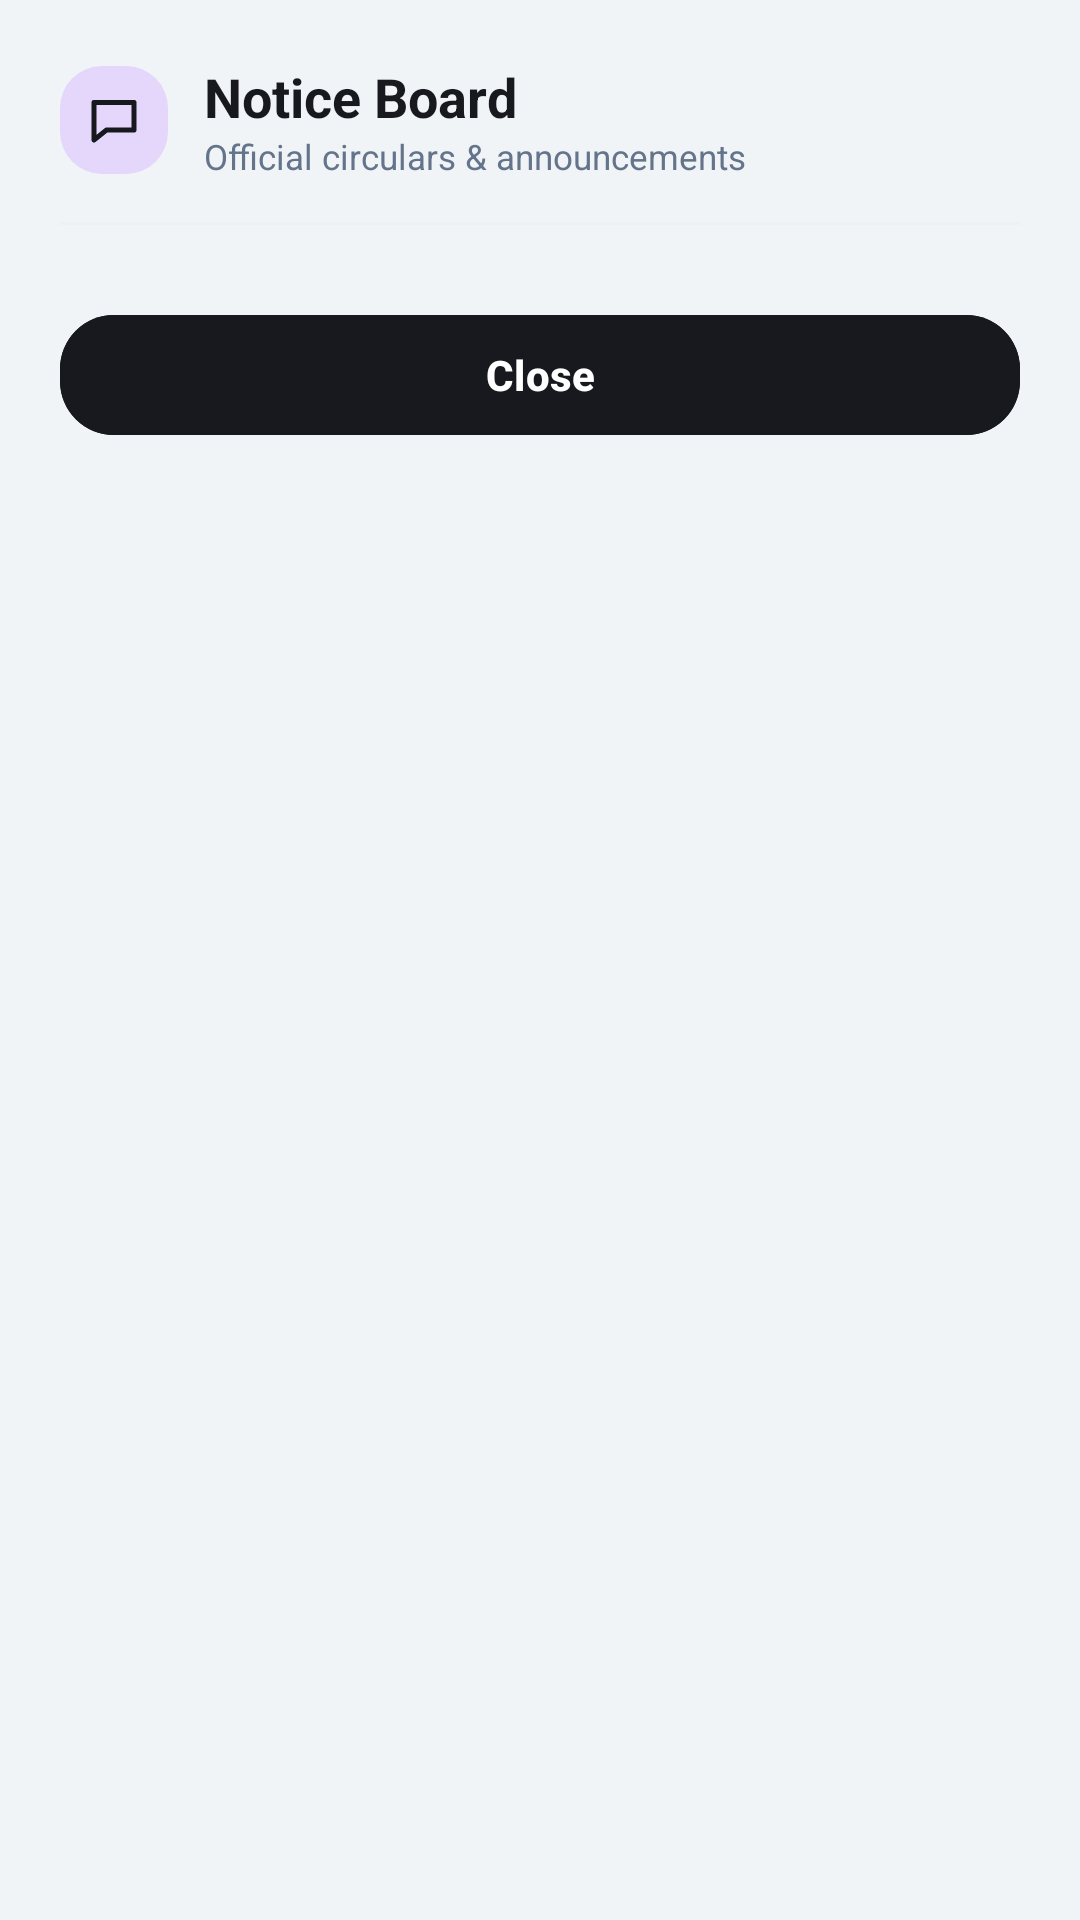

Screen size 1080*1920. Icon name, then its box in pixels as (x1, y1, x2, y2):
chat: (60, 66, 168, 174)
